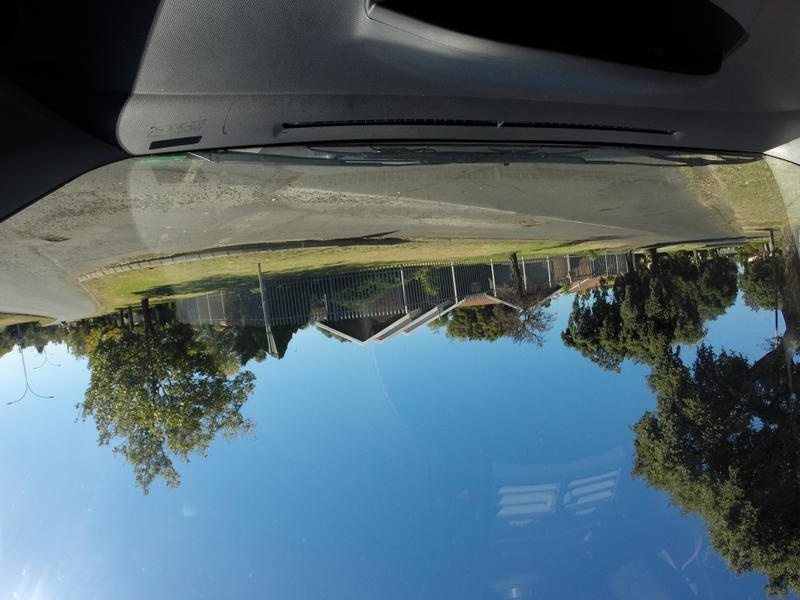pothole: (169, 188, 383, 210), (54, 191, 145, 211), (514, 216, 552, 233), (36, 229, 69, 242)
